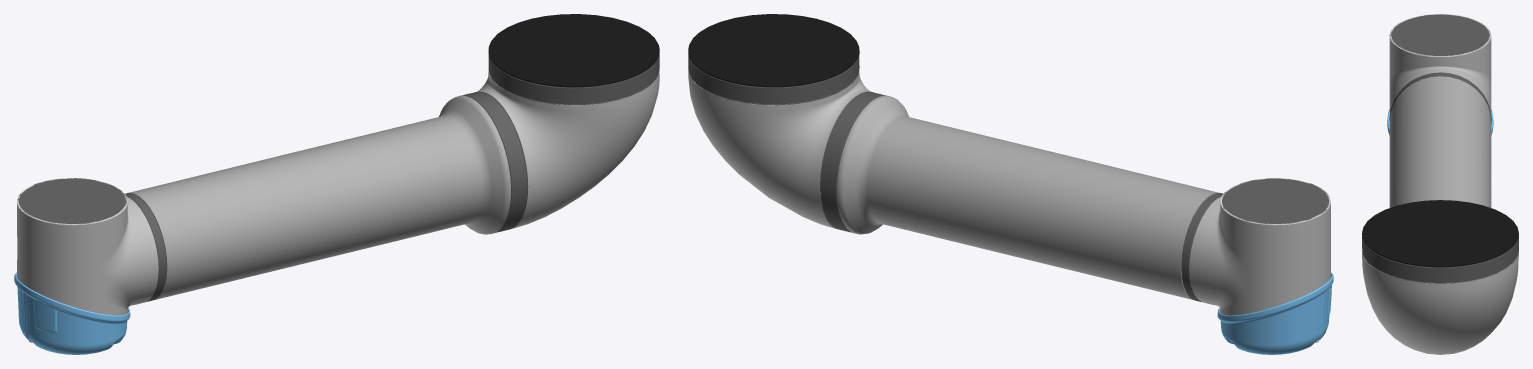
File: eSeries_UR5e_Link3_UR5_STEP v1.fbx
3 renders of one model, left to right at view 1: azimuth 30°, elevation 25°; view 2: azimuth 150°, elevation 25°; view 3: azimuth 270°, elevation 25°, orthographic. The views are drawn at different scales.
Visible parts, largest first — view 1: Body2; view 2: Body2; view 3: Body2, Body1.
Boxes of the visible parts, left/top/right/bottom form: Body2: left=14, top=14, right=659, bottom=354; Body2: left=688, top=14, right=1333, bottom=354; Body2: left=1362, top=14, right=1518, bottom=354; Body1: left=1389, top=14, right=1491, bottom=57.
Bounding box in the file's own units: 490 × 124 × 116.
